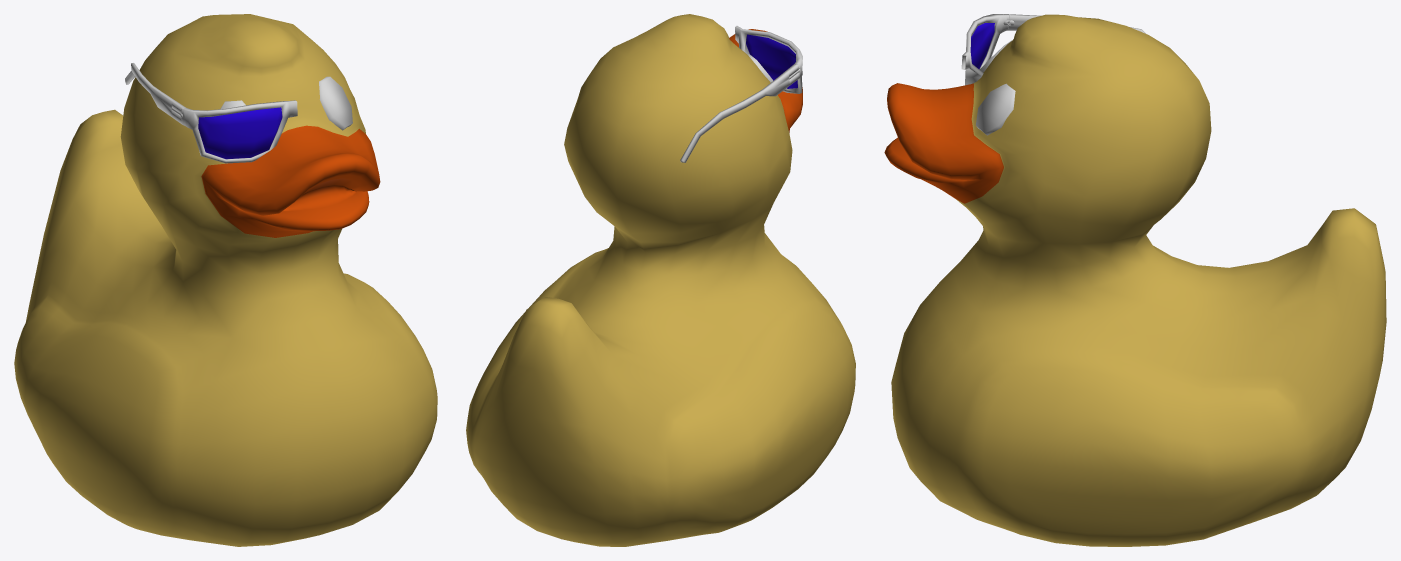
File: duck.dae
The picture shows the model from 3 angles, left to right: view 1: azimuth 30°, elevation 25°; view 2: azimuth 150°, elevation 25°; view 3: azimuth 270°, elevation 25°; orthographic projection. The views are drawn at different scales.
Visible parts, largest first — view 1: Rubber_Duck, Plane, Rubber_Duck_Eyes; view 2: Rubber_Duck, Plane; view 3: Rubber_Duck, Plane, Rubber_Duck_Eyes.
Boxes of the visible parts, <box> form: Rubber_Duck: <box>14,14,437,546</box>; Plane: <box>125,63,297,163</box>; Rubber_Duck_Eyes: <box>220,76,352,130</box>; Rubber_Duck: <box>466,14,855,546</box>; Plane: <box>680,26,802,162</box>; Rubber_Duck: <box>884,14,1386,546</box>; Plane: <box>961,14,1145,85</box>; Rubber_Duck_Eyes: <box>976,40,1015,135</box>.
Size of the model in its own units: 2.49 by 3.4 by 3.58.
